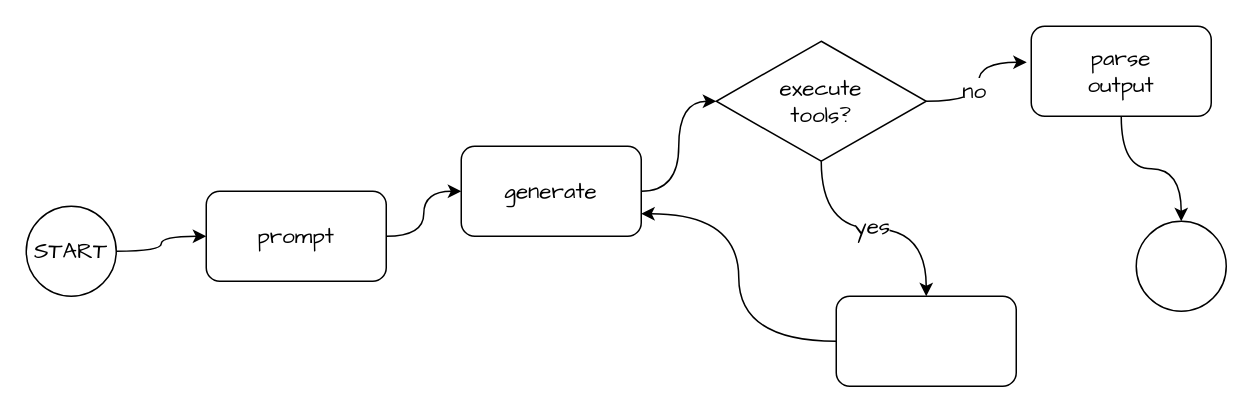
Some shapes in this 1253 by 413 pixel diagram are drawn without their labels. Here are the shapes that lost their labels. From the top down, the box of each, then its label:
(1135, 220, 1226, 311): END
(835, 295, 1016, 386): tool
